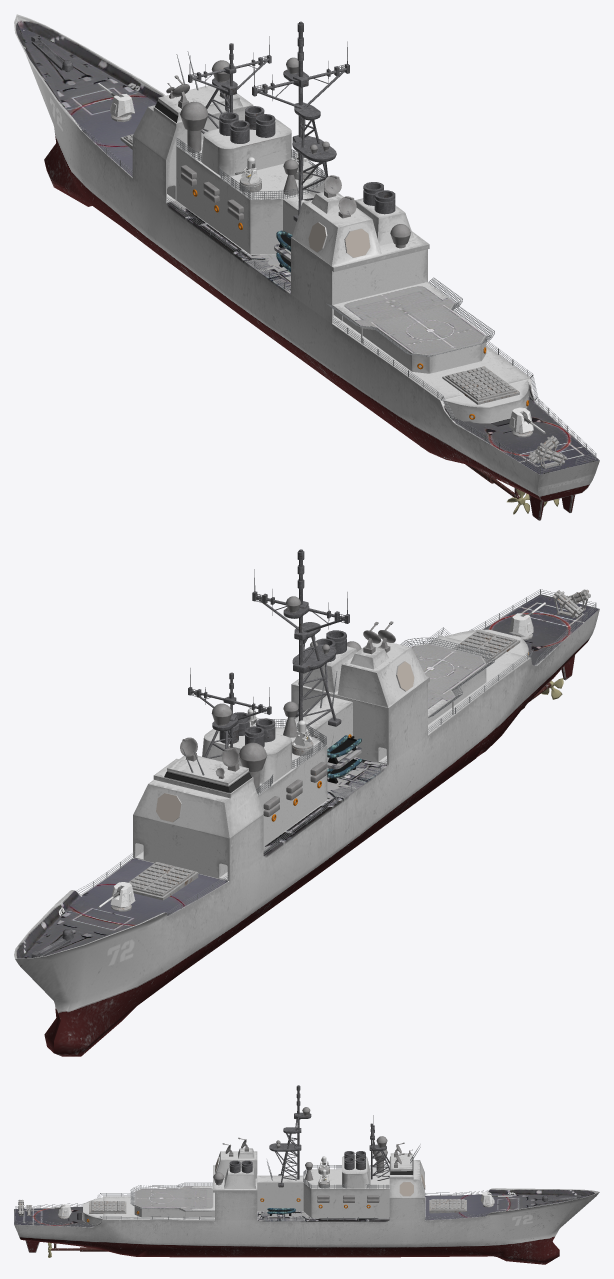
3 renders of one model, top to bottom at view 1: azimuth 30°, elevation 25°; view 2: azimuth 150°, elevation 25°; view 3: azimuth 270°, elevation 25°, orthographic. The views are drawn at different scales.
Visible parts, largest first — view 1: S_cg47; view 2: S_cg47; view 3: S_cg47.
Part boxes in pixels (<box>): S_cg47: <box>14,14,599,520</box>; S_cg47: <box>14,549,599,1056</box>; S_cg47: <box>14,1085,599,1264</box>.
Bounding box in the file's own units: 32.53 × 96.02 × 290.
5 materials, 5 textured.
